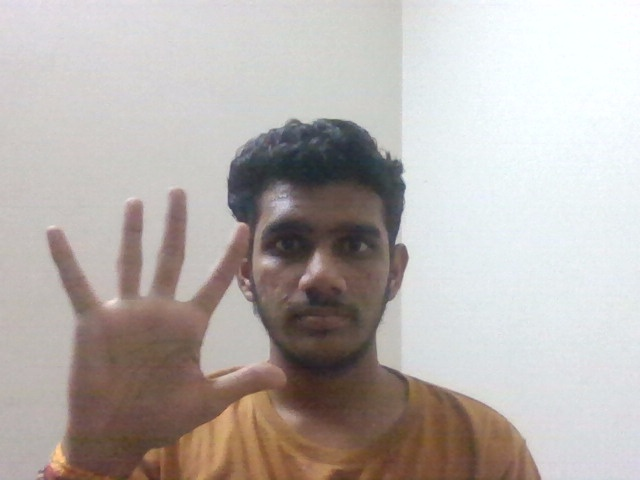hello: (25, 160, 286, 451)
